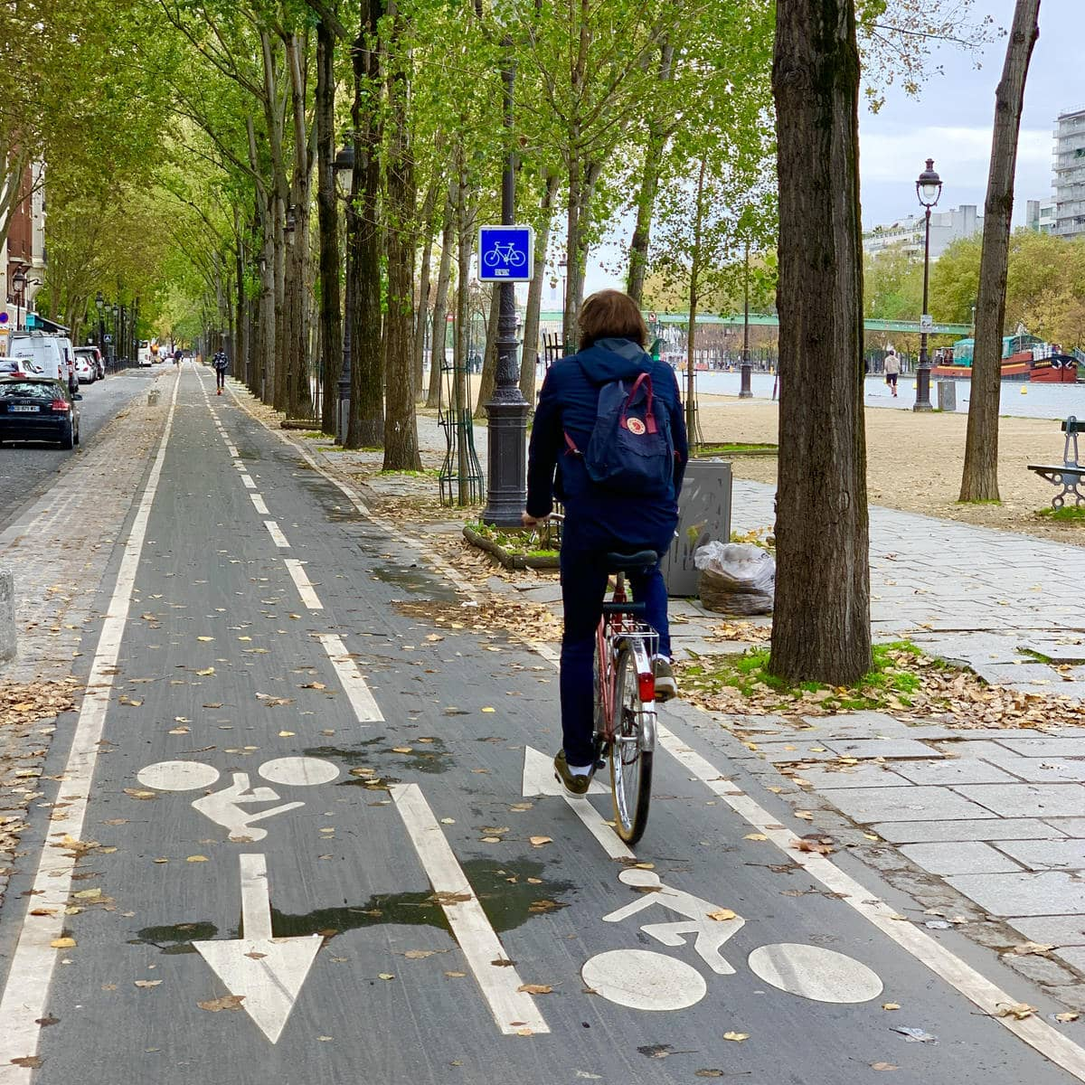Bicycle: (564, 532, 685, 822)
Car: (10, 365, 88, 445)
